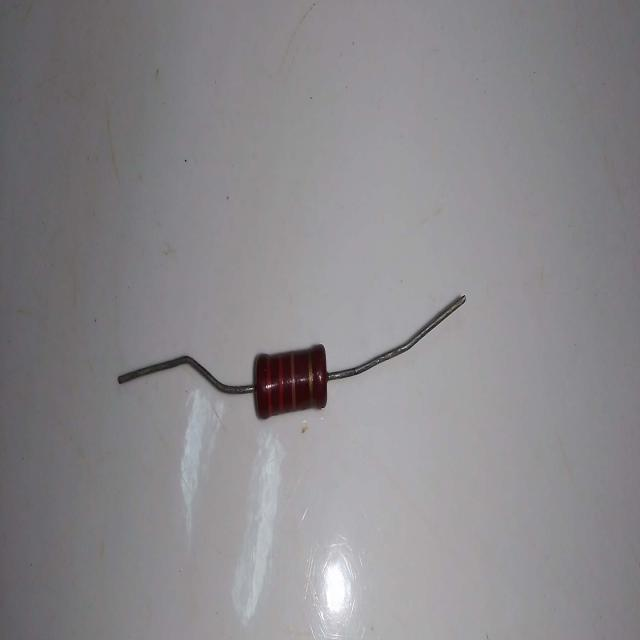Carbon Resistor: (114, 284, 478, 428)
